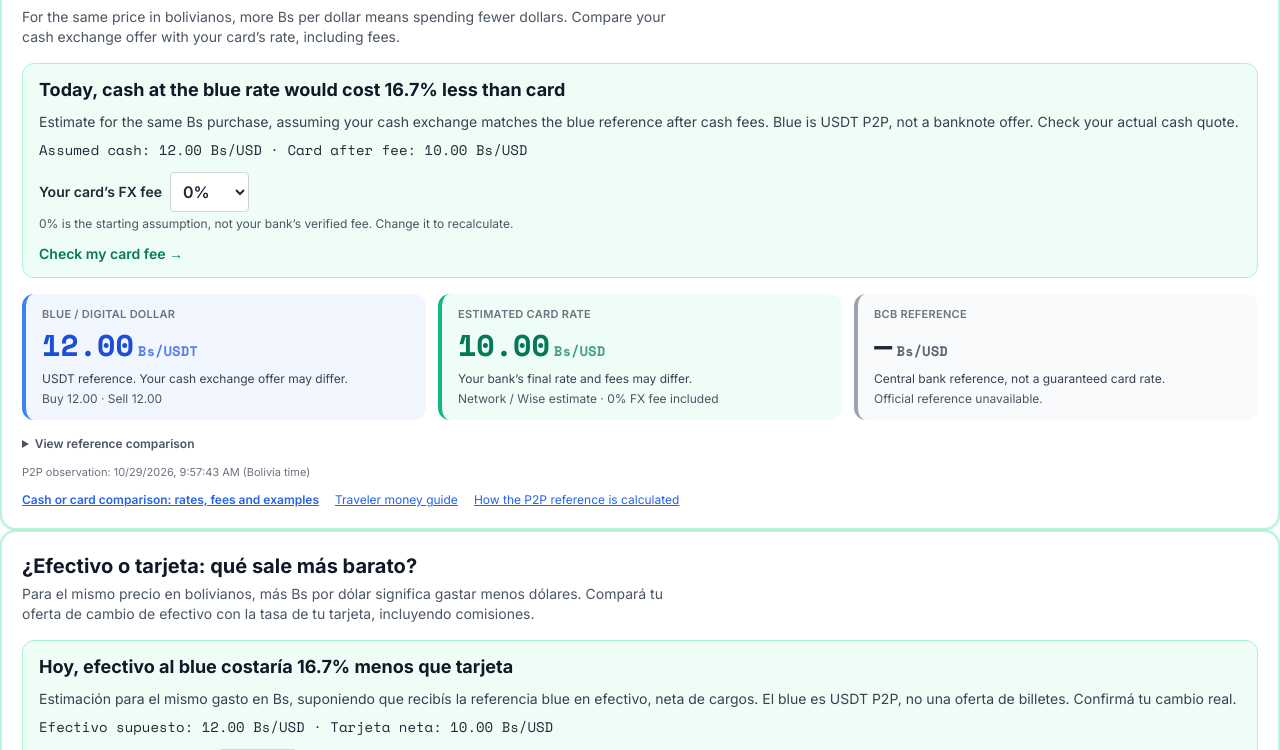
Test: shares fee between comparison instances
Select "2.7%" in the dropdown labelled "Your card’s FX fee": (209, 192) [170,172,249,212]
(page scrolled)
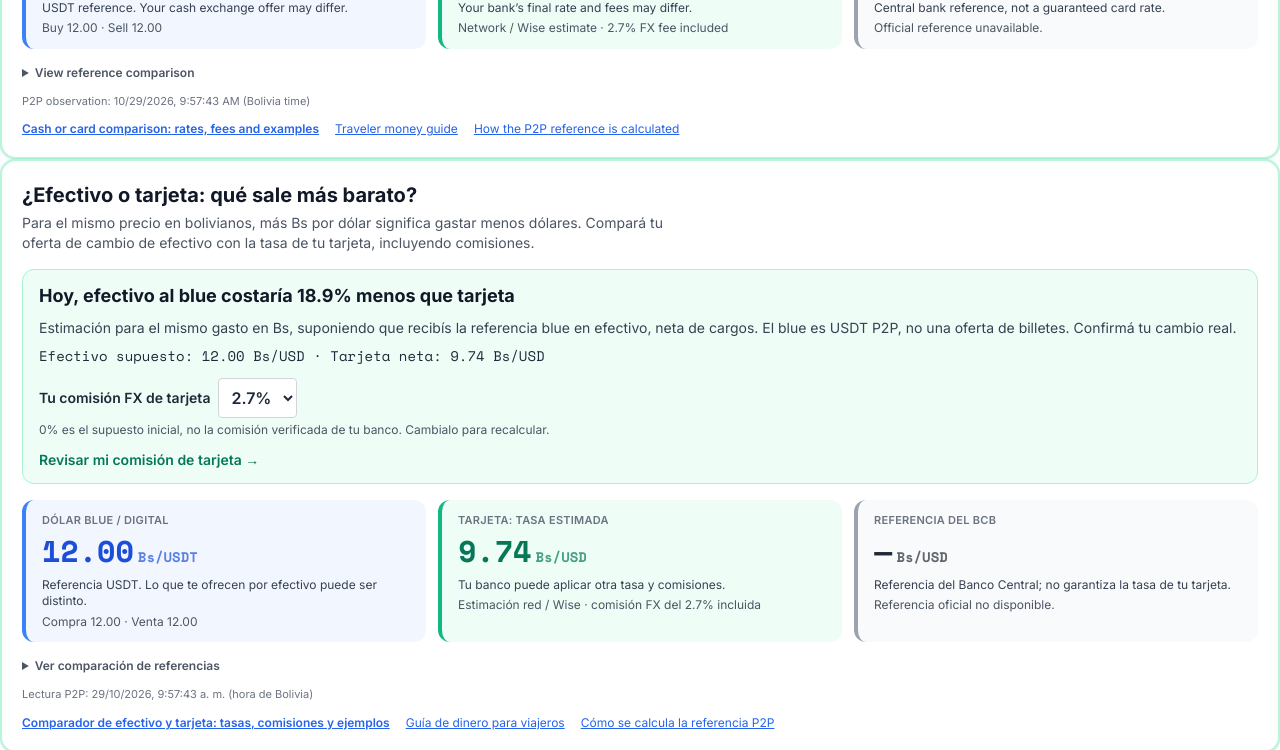
Expected: the dropdown shows "2.7%", [218,378,297,418]
